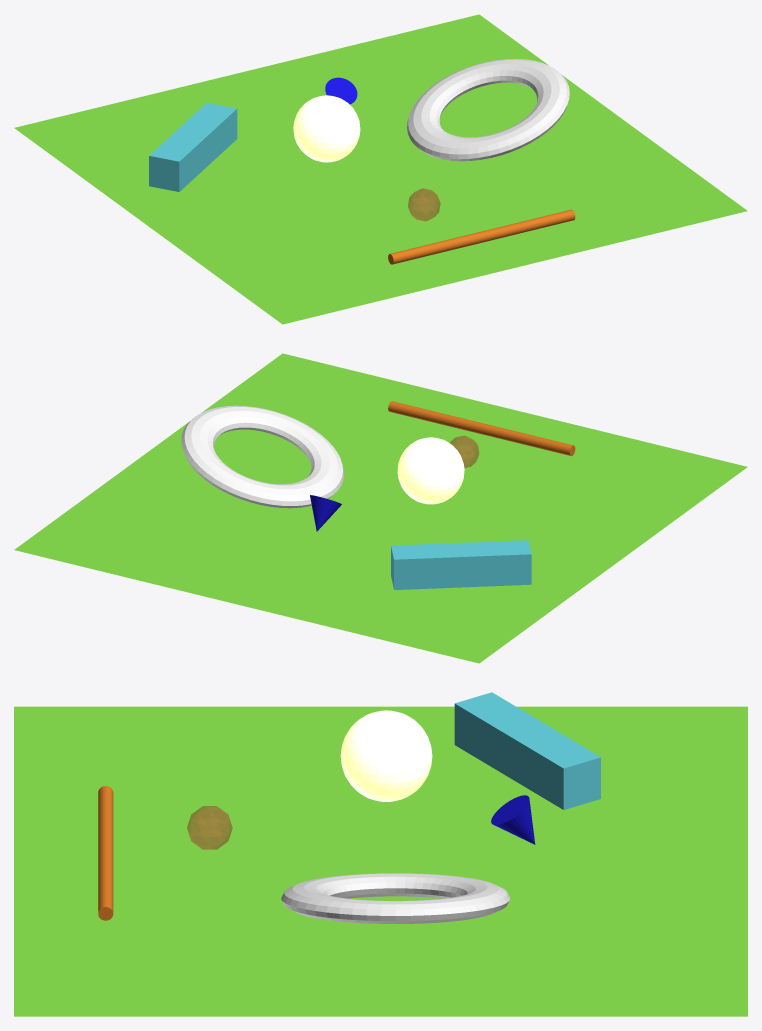
3 views of the same model, one above another, from view 1: azimuth 30°, elevation 25°; view 2: azimuth 150°, elevation 25°; view 3: azimuth 270°, elevation 25° (orthographic). The views are drawn at different scales.
Visible parts, largest first — view 1: Plane, Torus, Cube, Sphere, Cylinder, Icosphere, Cone; view 2: Plane, Torus, Cube, Sphere, Cylinder, Cone, Icosphere; view 3: Plane, Cube, Torus, Sphere, Cylinder, Icosphere, Cone.
Boxes of the visible parts, x1,y1,x2,y2 form: Plane: (14, 14, 747, 324); Torus: (407, 58, 569, 161); Cube: (149, 103, 237, 191); Sphere: (293, 95, 360, 162); Cylinder: (388, 209, 575, 264); Icosphere: (408, 188, 440, 220); Cone: (325, 77, 357, 104); Plane: (14, 353, 747, 663); Torus: (181, 405, 344, 508); Cube: (391, 540, 531, 589); Sphere: (397, 437, 464, 504); Cylinder: (388, 401, 575, 456); Cone: (310, 495, 341, 531); Icosphere: (450, 436, 478, 467); Plane: (14, 706, 747, 1016); Cube: (454, 692, 600, 809); Torus: (281, 873, 510, 923); Sphere: (340, 710, 432, 801); Cylinder: (98, 786, 113, 920); Icosphere: (187, 806, 232, 849); Cone: (491, 795, 535, 844).
Size of what is drawn, in the model's own units: 8 by 1.35 by 8.
